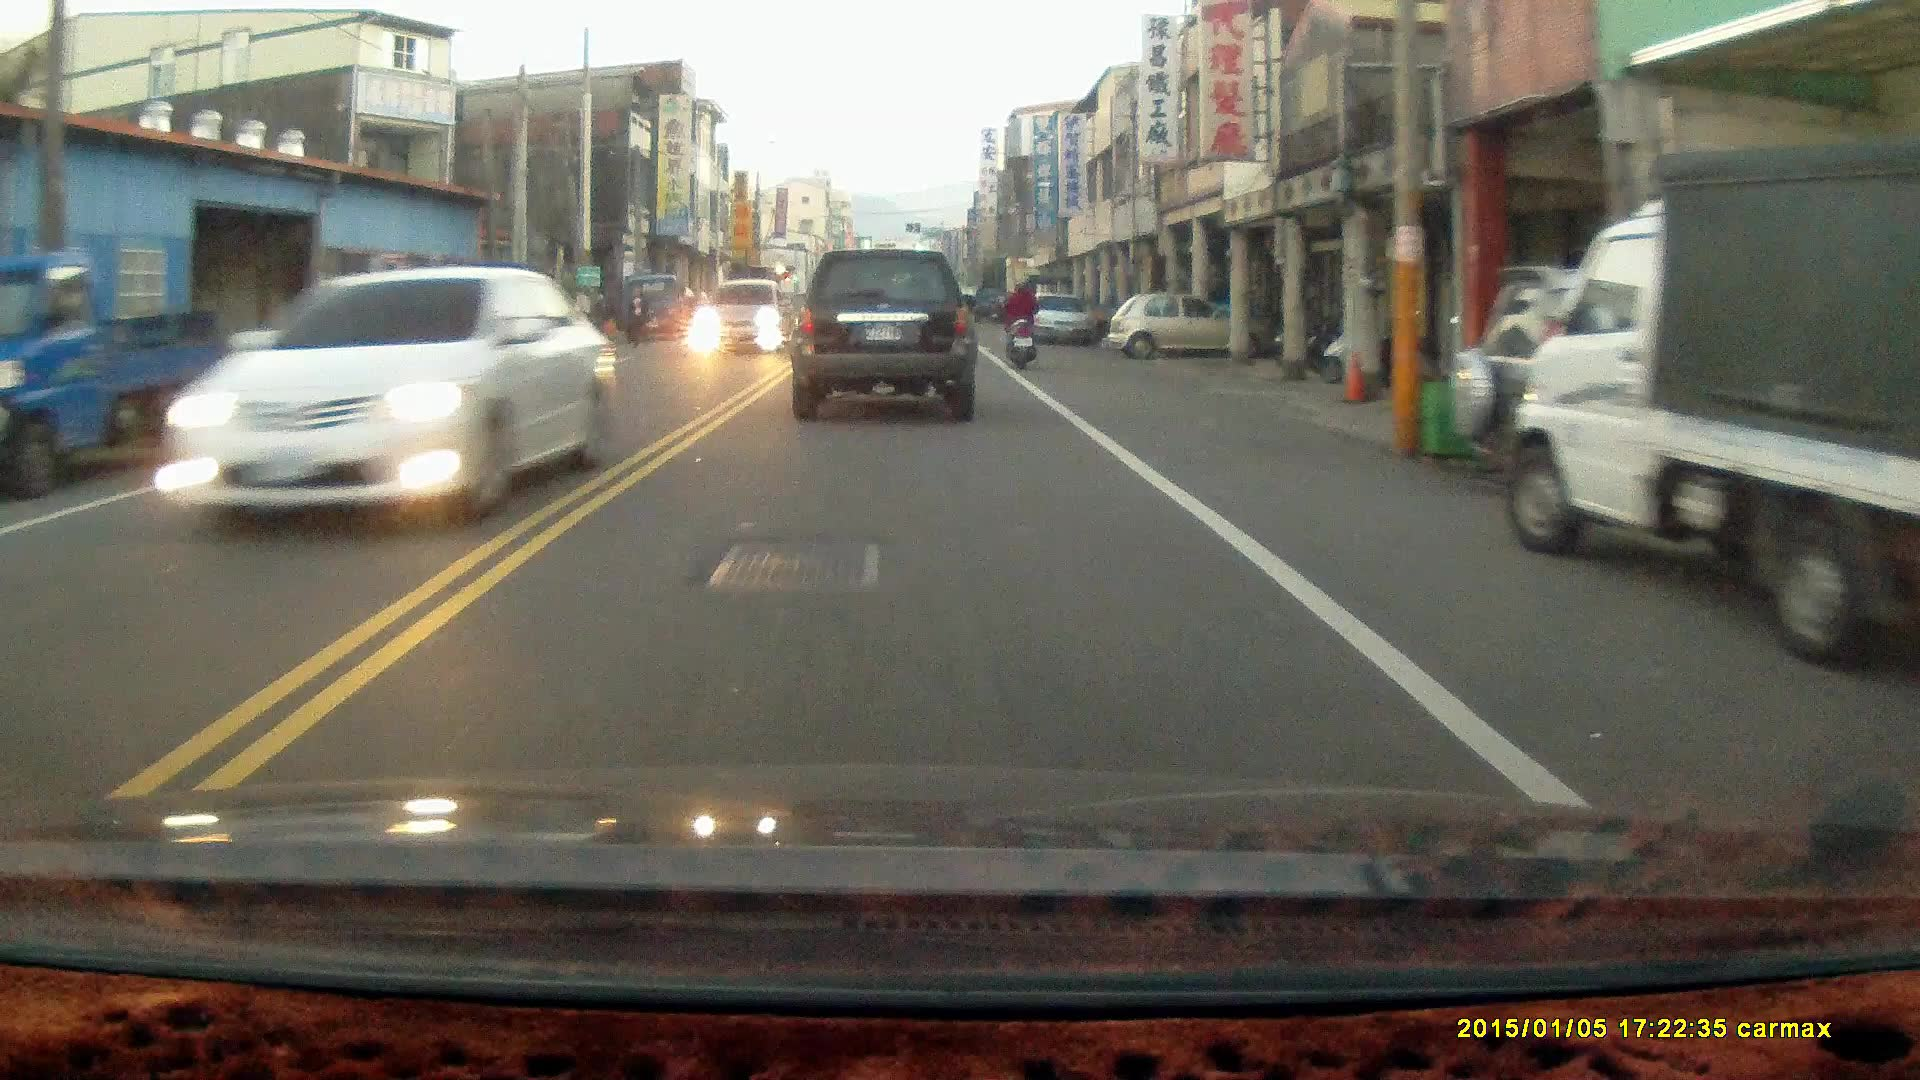pedestrian: (627, 285, 649, 345)
rider: (1003, 274, 1040, 369)
vehicle: (1509, 136, 1920, 686), (130, 267, 621, 530), (1450, 270, 1919, 494), (1, 248, 233, 503), (787, 250, 982, 427), (1107, 294, 1244, 363), (694, 281, 797, 360), (1026, 293, 1097, 347)
